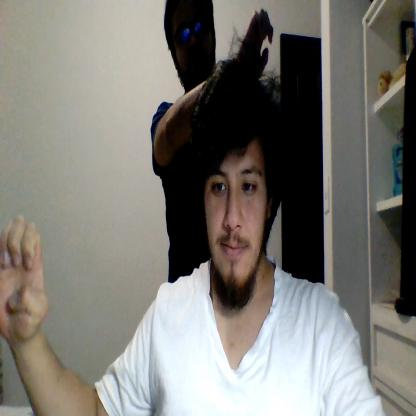E: (0, 216, 47, 341)
